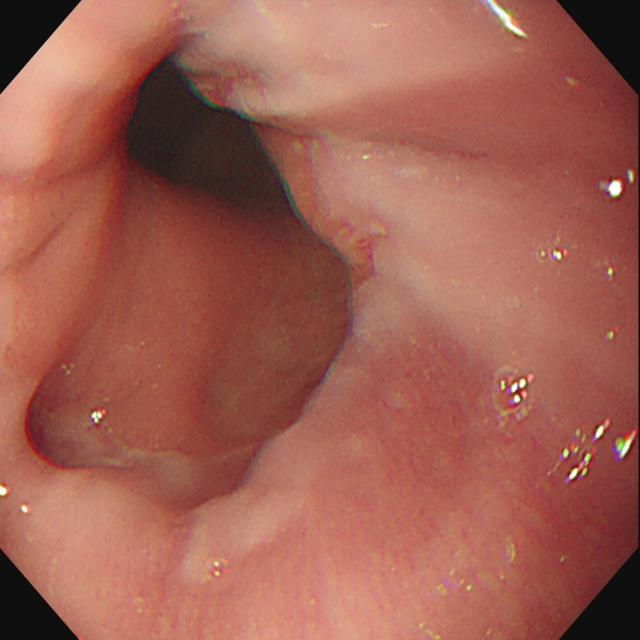A: (354, 237, 378, 278)
E: (134, 98, 216, 173)
U: (563, 420, 610, 488), (485, 2, 530, 41), (500, 373, 534, 407), (616, 429, 639, 462), (600, 177, 623, 200), (90, 408, 106, 426)
